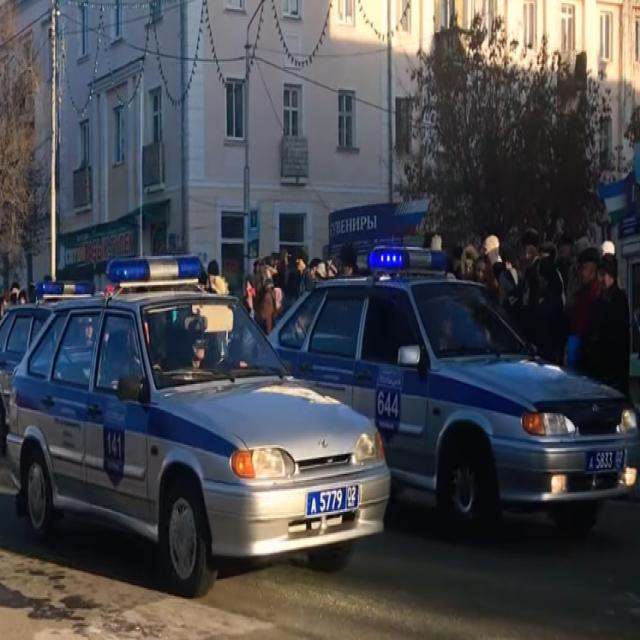police car: (9, 254, 392, 601), (268, 245, 639, 534)
